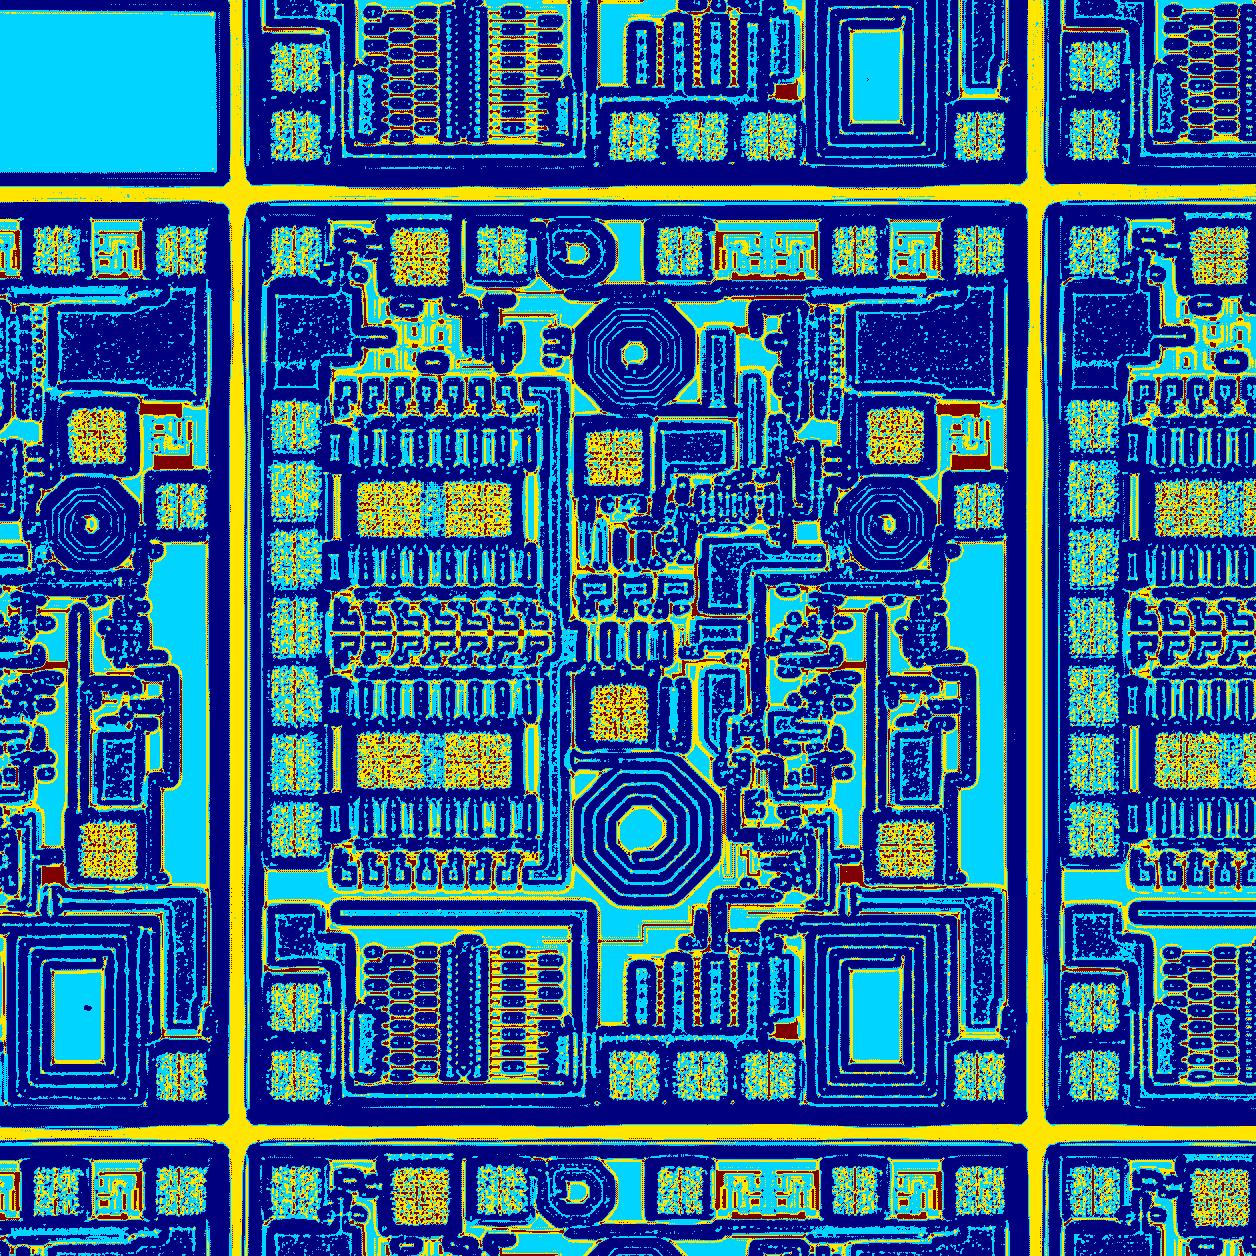Die: (245, 199, 1031, 1126)
Pad 1: (442, 478, 513, 537), (442, 730, 513, 789), (355, 732, 424, 789), (357, 478, 422, 537), (390, 228, 450, 288), (589, 684, 648, 742), (875, 821, 935, 878), (584, 430, 643, 487), (866, 408, 924, 465)
Pad 2: (270, 461, 322, 522), (270, 529, 322, 590), (270, 735, 322, 795), (271, 598, 322, 658), (271, 666, 322, 726), (270, 802, 322, 858), (270, 225, 322, 278), (270, 400, 320, 454), (270, 983, 322, 1033), (675, 1051, 728, 1100), (271, 1050, 321, 1101), (954, 1051, 1005, 1100), (608, 1051, 660, 1100), (744, 1052, 796, 1101), (954, 228, 1005, 275), (954, 483, 1004, 529), (476, 228, 527, 274), (656, 227, 703, 275), (832, 225, 878, 275)
